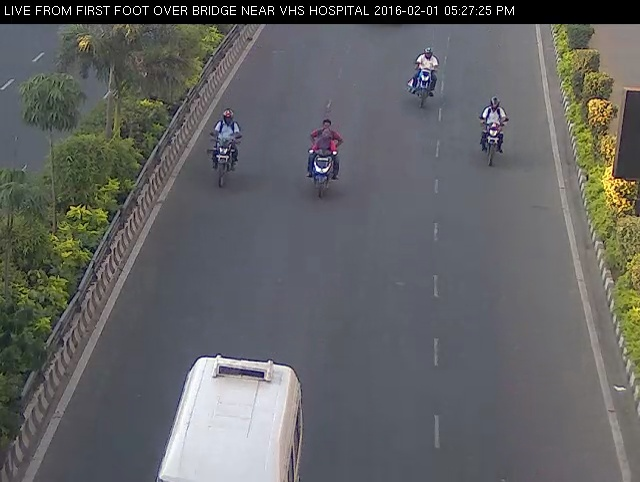Bus: (135, 337, 314, 482)
Person: (296, 108, 347, 200), (200, 103, 252, 187), (470, 85, 515, 170), (407, 40, 442, 115)
